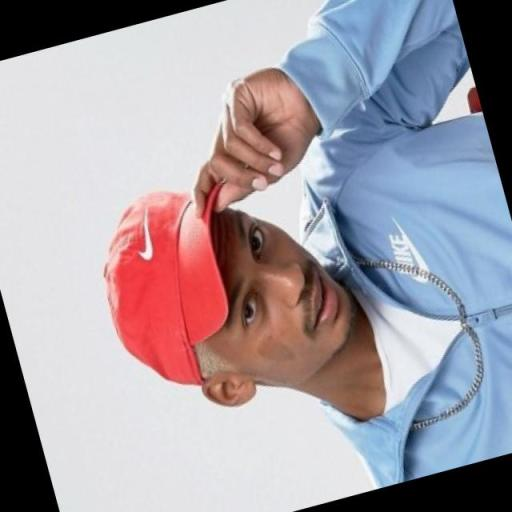Nike: (404, 226, 434, 284), (386, 230, 414, 276)
